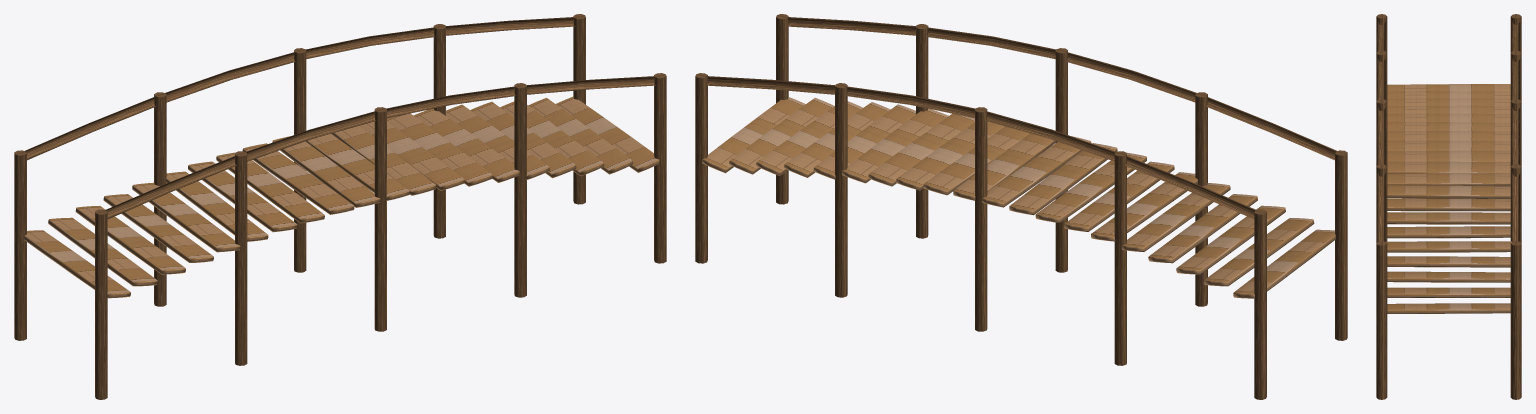
File: bridge_plank.glb
3 renders of one model, left to right at view 1: azimuth 30°, elevation 25°; view 2: azimuth 150°, elevation 25°; view 3: azimuth 270°, elevation 25°, orthographic. The views are drawn at different scales.
Visible parts, largest first — view 1: bridge_plank_wood, bridge_plank; view 2: bridge_plank_wood, bridge_plank; view 3: bridge_plank_wood, bridge_plank.
Part boxes in pixels (box(x1,y1,x2,y2)): bridge_plank_wood: box(24, 96, 659, 298); bridge_plank: box(14, 14, 666, 399); bridge_plank_wood: box(702, 97, 1335, 298); bridge_plank: box(695, 14, 1347, 399); bridge_plank_wood: box(1386, 84, 1511, 313); bridge_plank: box(1376, 14, 1521, 399).
Size of the model in its own units: 6.12 by 2.25 by 1.62.
2 materials, 2 textured.
